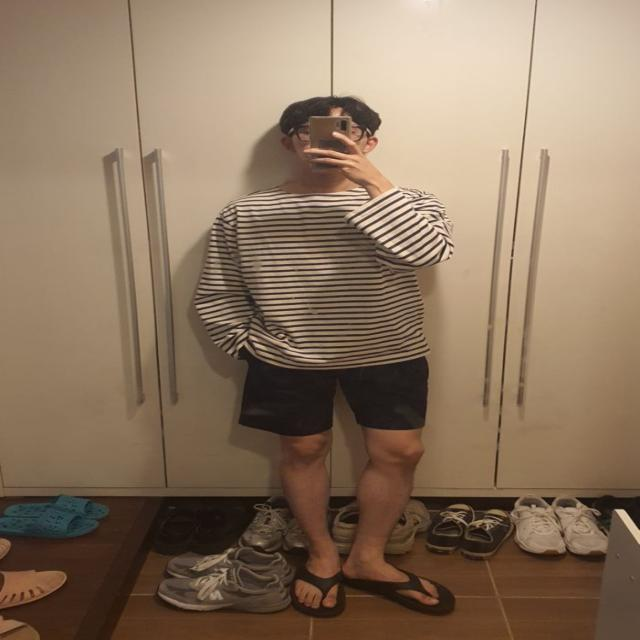longsleeve: (193, 184, 452, 370)
shortpants: (239, 352, 431, 435)
